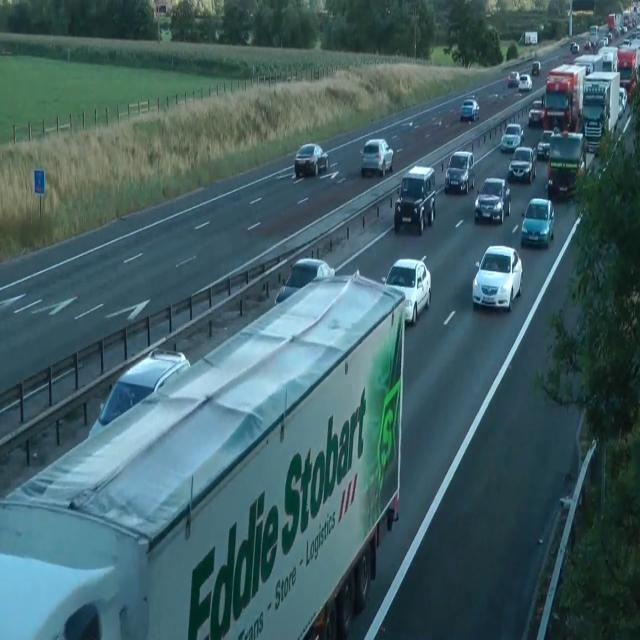bus: (88, 348, 190, 440), (381, 255, 431, 325), (472, 244, 522, 312), (275, 257, 335, 306), (521, 196, 555, 248), (474, 177, 510, 224), (360, 138, 394, 177), (294, 143, 328, 178), (508, 146, 537, 183), (500, 123, 524, 152), (536, 130, 554, 159), (460, 98, 480, 122), (528, 99, 542, 125), (618, 86, 627, 118), (518, 73, 532, 92), (508, 70, 520, 88), (531, 60, 541, 76), (569, 42, 579, 52)
car: (0, 258, 406, 638)
jeep: (394, 164, 436, 234), (546, 130, 586, 196), (444, 149, 474, 194)
minibus: (579, 70, 620, 155), (541, 63, 585, 132), (518, 30, 538, 46)
